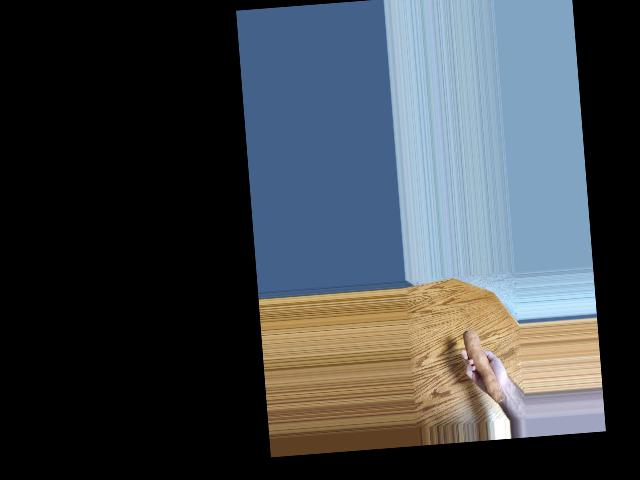sweet_potato: (461, 326, 505, 405)
